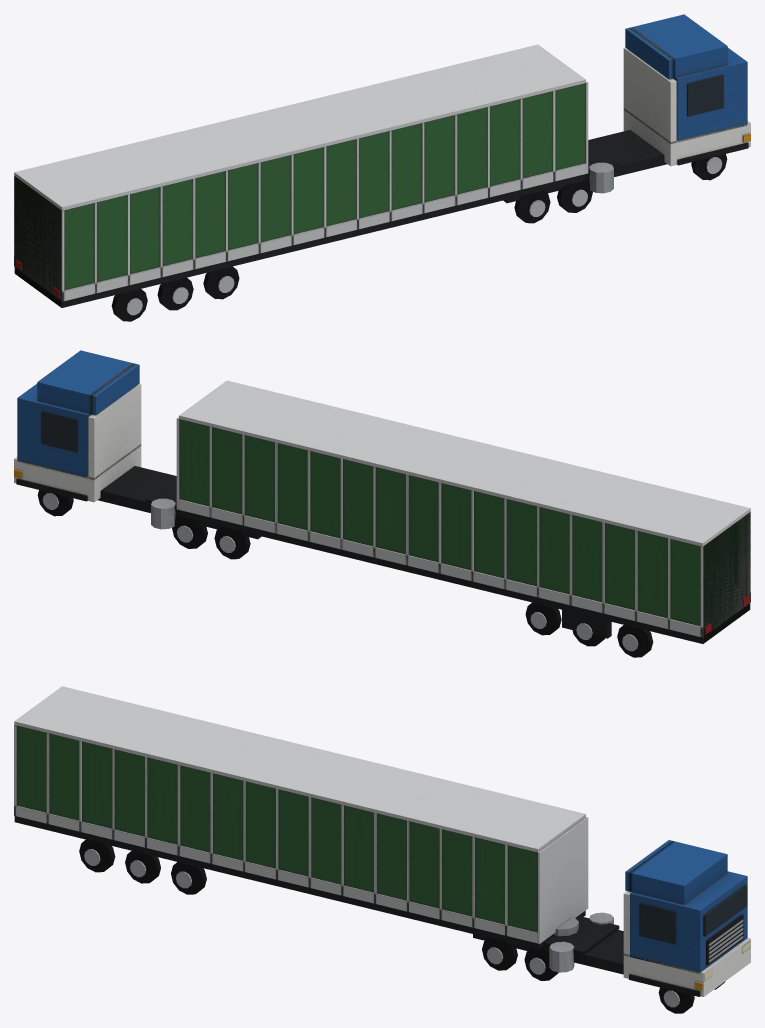
The model's file is tir_c.glb.
The picture shows the model from 3 angles, top to bottom: view 1: azimuth 30°, elevation 25°; view 2: azimuth 150°, elevation 25°; view 3: azimuth 330°, elevation 25°; orthographic projection.
Visible parts, largest first — view 1: tir_c; view 2: tir_c; view 3: tir_c.
Boxes of the visible parts, x1=… form: tir_c: x1=14, y1=14, x2=750, y2=321; tir_c: x1=14, y1=350, x2=750, y2=657; tir_c: x1=14, y1=686, x2=750, y2=1013.
Size of the model in its own units: 21.09 by 4 by 2.73.
1 material, 1 textured.
